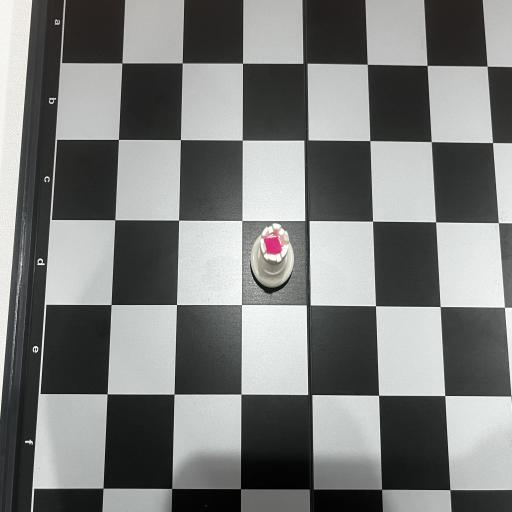White rook: (250, 224, 294, 288)
